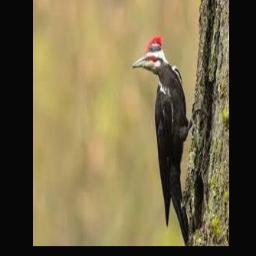Woodpecker: (133, 37, 203, 245)
